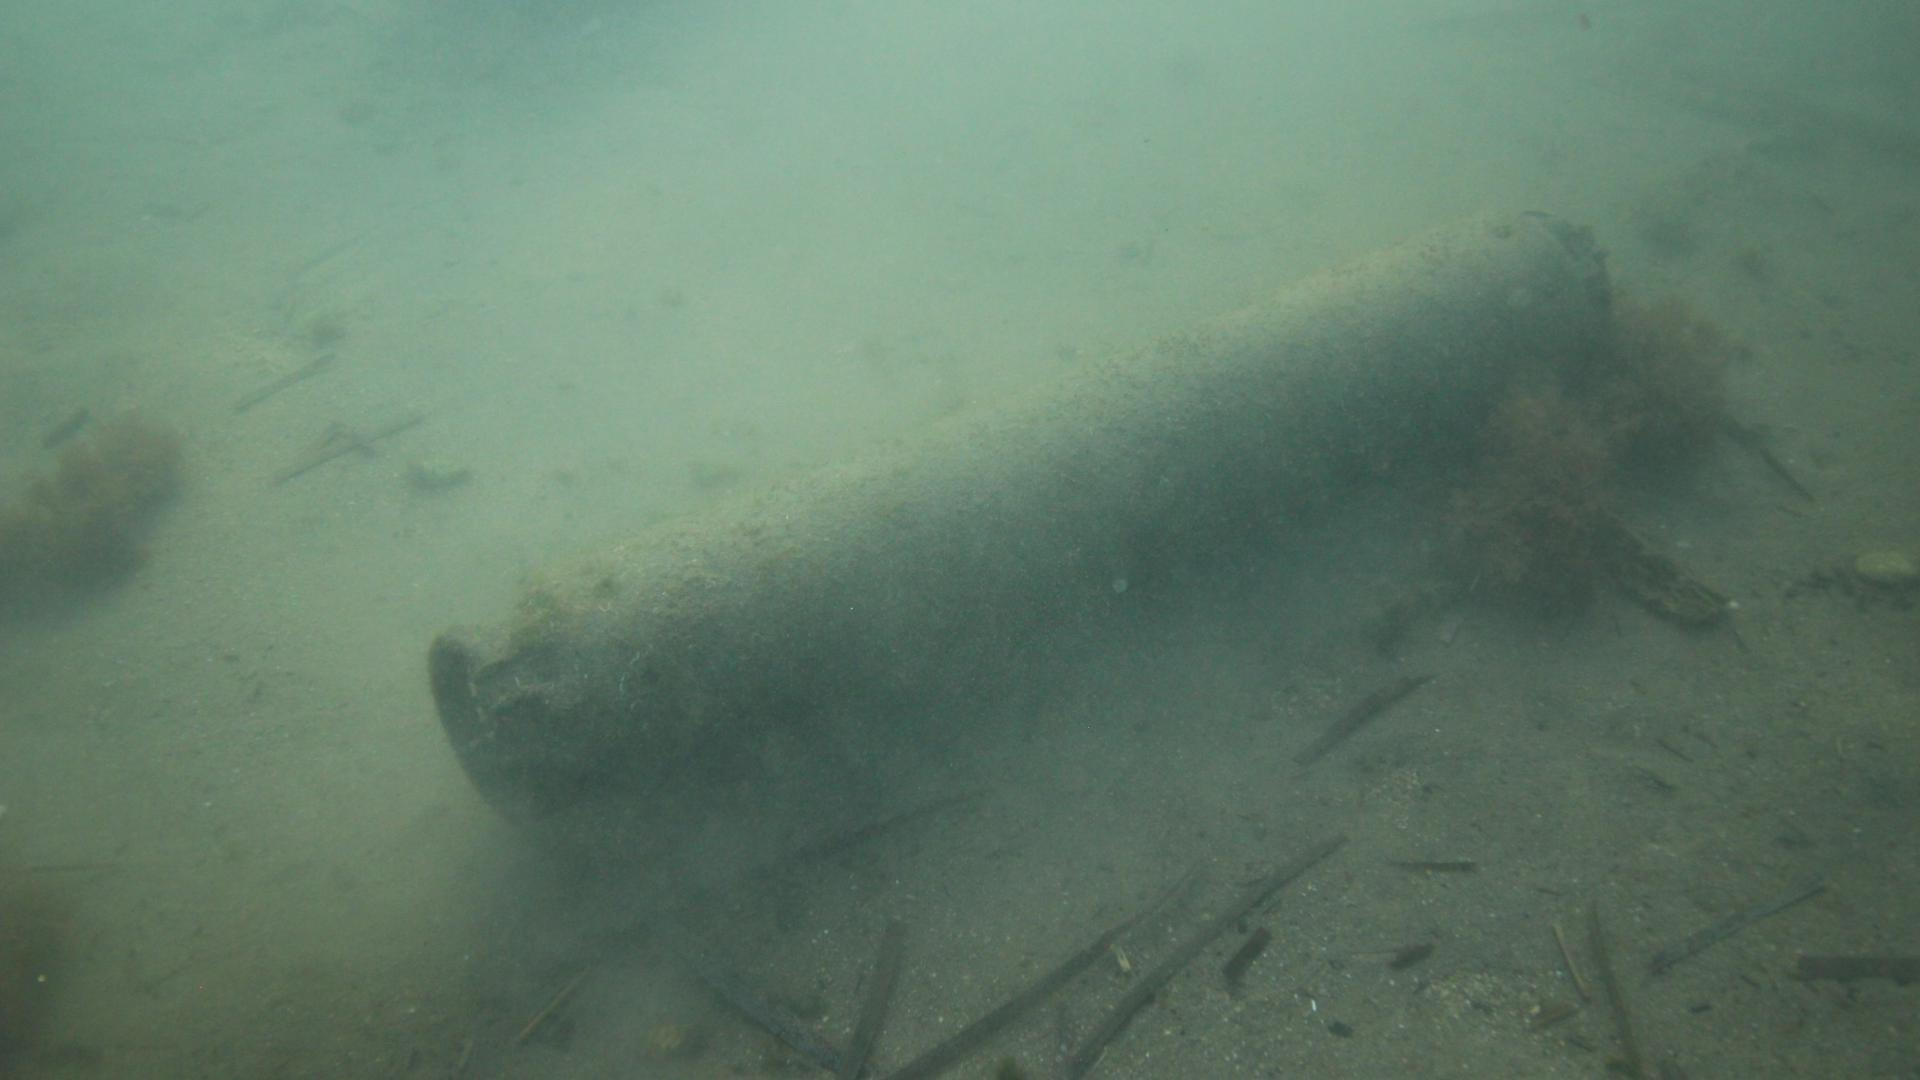eel fish trap: (429, 207, 1611, 824)
